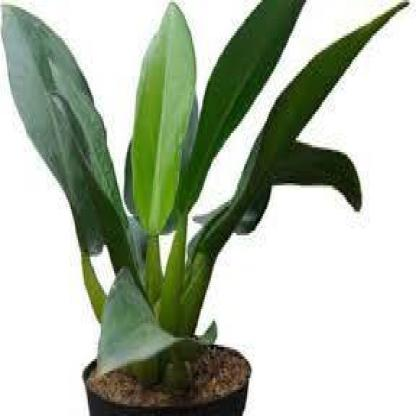Kenanga: (100, 76, 239, 205)
